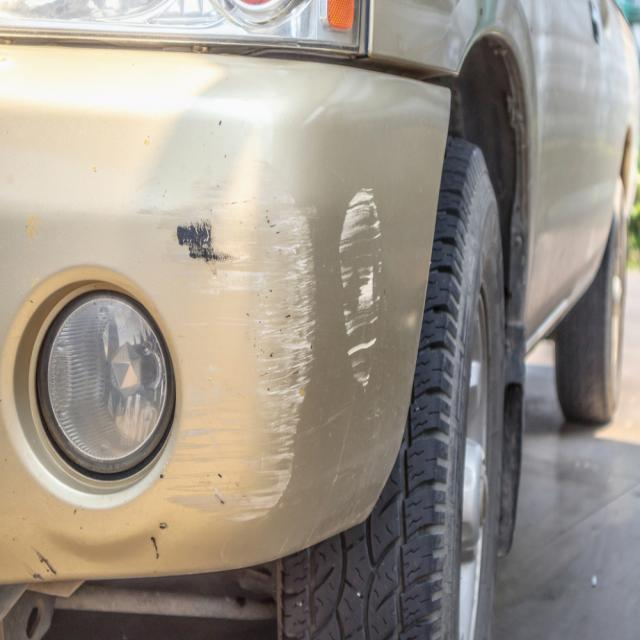scratch: (144, 160, 320, 524), (337, 185, 387, 390)
